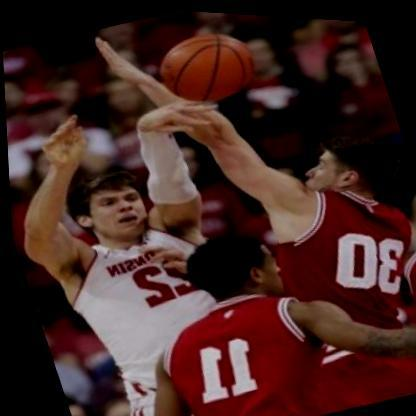basketball: (142, 8, 271, 121)
